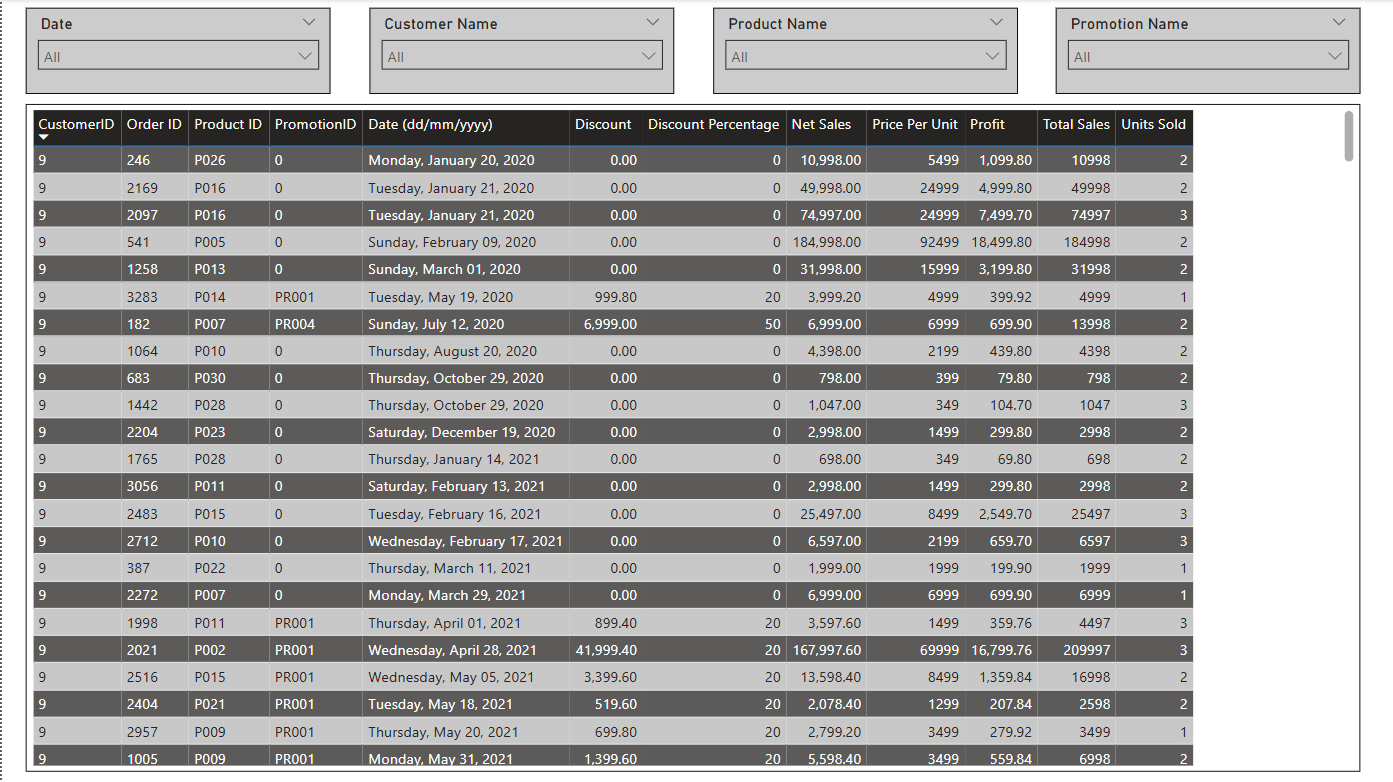

The dashboard page shown, as its layout file describes it:
{"tool":"powerbi","page":{"name":"Requirement 5","canvas":[1280,720],"ordinal":4},"visuals":[{"type":"tableEx","fields":{"Values":["Fact Table.CustomerID","Fact Table.Order ID","Fact Table.Product ID","Fact Table.PromotionID","Fact Table.Date (dd/mm/yyyy)","Fact Table.Discount Value","Fact Table.Discount Percentage","Fact Table.Net Sales","Fact Table.Price Per Unit","Fact Table.Profit","Fact Table.Total Sales","Fact Table.Units Sold"]},"box":[22.1,96.5,1226.7,614],"z":0},{"type":"slicer","fields":{"Values":["Date Table 1.Date"]},"box":[22.1,8.1,280.2,79.1],"z":1},{"type":"slicer","fields":{"Values":["Dim Customers.Customer Name"]},"box":[337.6,8.1,280.2,79.1],"z":2},{"type":"slicer","fields":{"Values":["Dim Product.Product Name"]},"box":[653.1,8.1,280.2,79.1],"z":3},{"type":"slicer","fields":{"Values":["Dim Promotion.Promotion Name"]},"box":[968.6,8.1,280.2,79.1],"z":4}]}

Visuals, with their boxes in screenshot pixels (x1, y1, x2, y2), scaled from the page's 1280x720 canvas onto the 1393x782 screenshot:
tableEx - Fact Table.CustomerID x Fact Table.Order ID: (left=24, top=105, right=1359, bottom=772)
slicer - Date Table 1.Date: (left=24, top=9, right=329, bottom=95)
slicer - Dim Customers.Customer Name: (left=367, top=9, right=672, bottom=95)
slicer - Dim Product.Product Name: (left=711, top=9, right=1016, bottom=95)
slicer - Dim Promotion.Promotion Name: (left=1054, top=9, right=1359, bottom=95)
